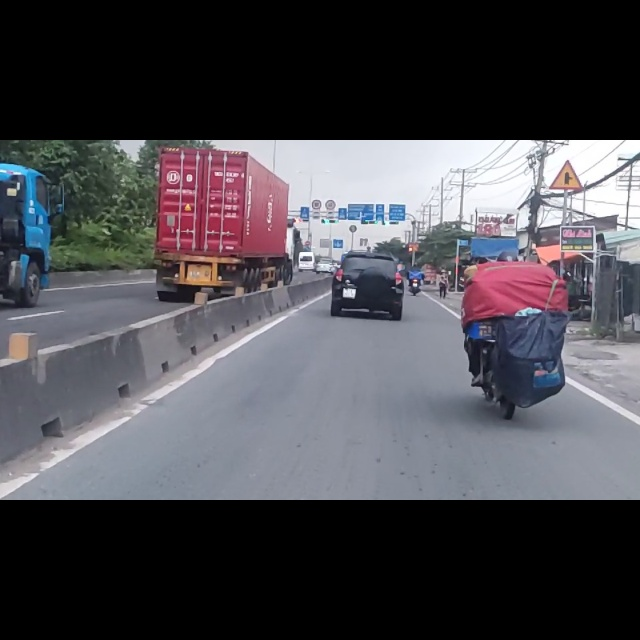bien_nguy_hiem: (549, 33, 584, 92), (325, 105, 337, 127), (312, 105, 321, 123)
